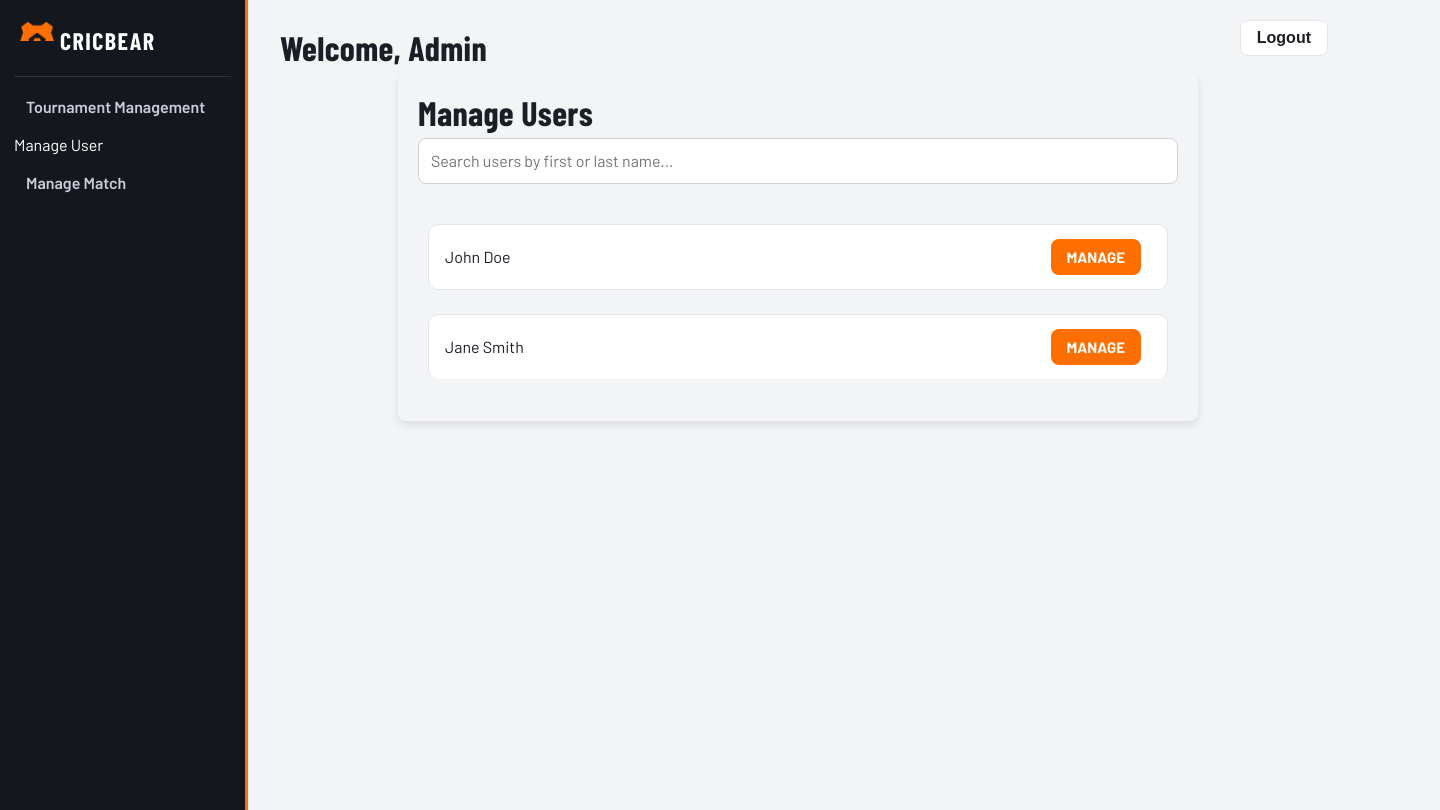
Test: ManageUser Component › handles user search
Type "John" into the field with placeholder "Search users by first or last name..." at coordinates (798, 161), box [418, 138, 1178, 184]
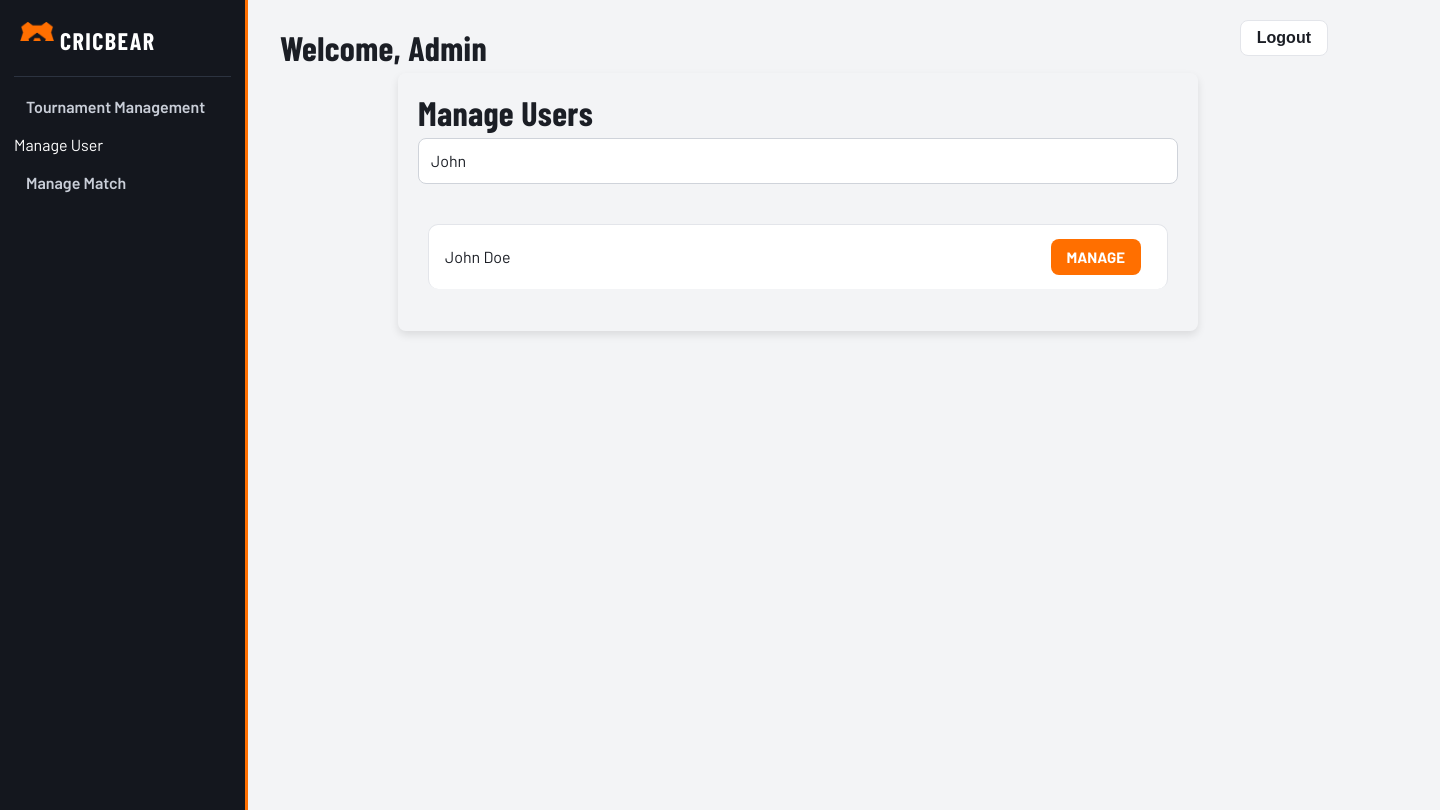
Expected: the text "John Doe" is shown, [445, 245, 510, 269]
Result: the text "Jane Smith" is gone
